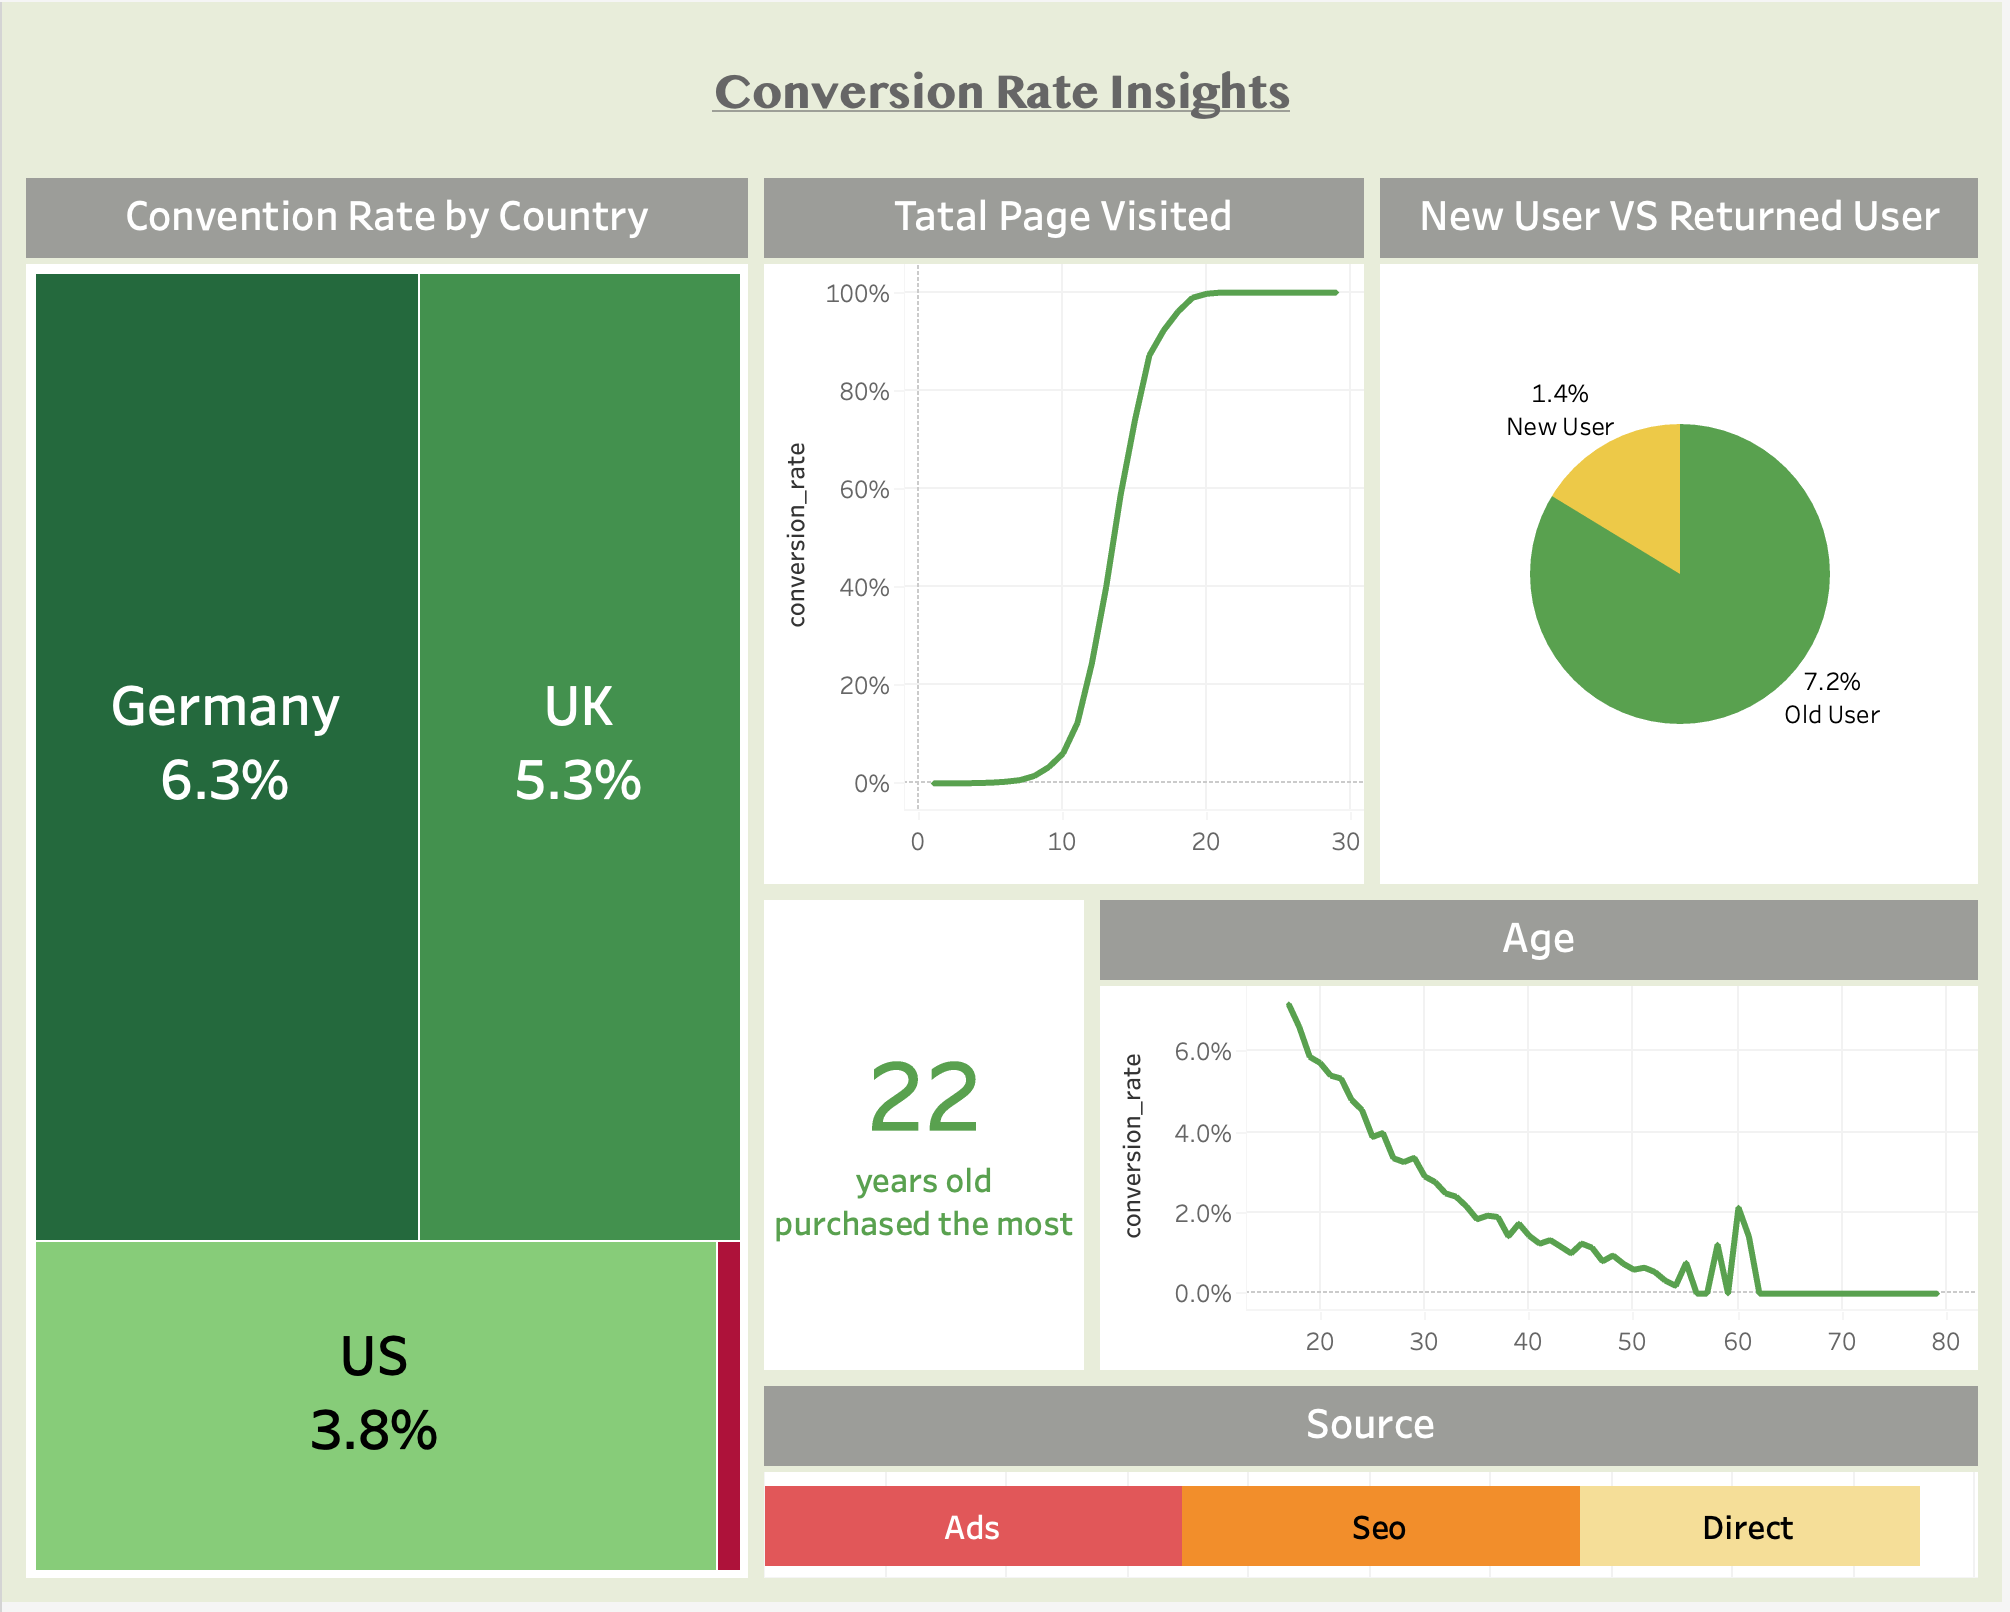

The page's visual inventory and layout, read from the dashboard file:
{"tool":"tableau","page":{"name":"Conversion Rate","canvas":[1000,800],"ordinal":0},"visuals":[{"type":"text","box":[8,8,984,76]},{"type":"worksheet","title":"country","mark":"Automatic","box":[8,84,369,708]},{"type":"worksheet","title":"total_page_visited","mark":"Automatic","rows":["Calculation_4553491083053490176"],"cols":["total_pages_visited"],"box":[377,84,307.5,361]},{"type":"worksheet","title":"new_user","mark":"Pie","box":[684.5,84,307.5,361]},{"type":"worksheet","title":"top 1 age gruop","mark":"Automatic","box":[377,445,168,243]},{"type":"worksheet","title":"age","mark":"Automatic","rows":["Calculation_4553491083053490176"],"cols":["age"],"box":[545,445,447,243]},{"type":"worksheet","title":"source","mark":"Automatic","cols":["Calculation_4553491083053490176"],"box":[377,688,615,104]}]}

Visuals, with their boxes in screenshot pixels (x1, y1, x2, y2), scaled from the page's 1000x800 canvas onto the 2010x1612 screenshot:
text: rect(16, 16, 1994, 169)
"country" worksheet: rect(16, 169, 758, 1596)
"total_page_visited" worksheet: rect(758, 169, 1376, 897)
"new_user" worksheet (Pie marks): rect(1376, 169, 1994, 897)
"top 1 age gruop" worksheet: rect(758, 897, 1095, 1386)
"age" worksheet: rect(1095, 897, 1994, 1386)
"source" worksheet: rect(758, 1386, 1994, 1596)
